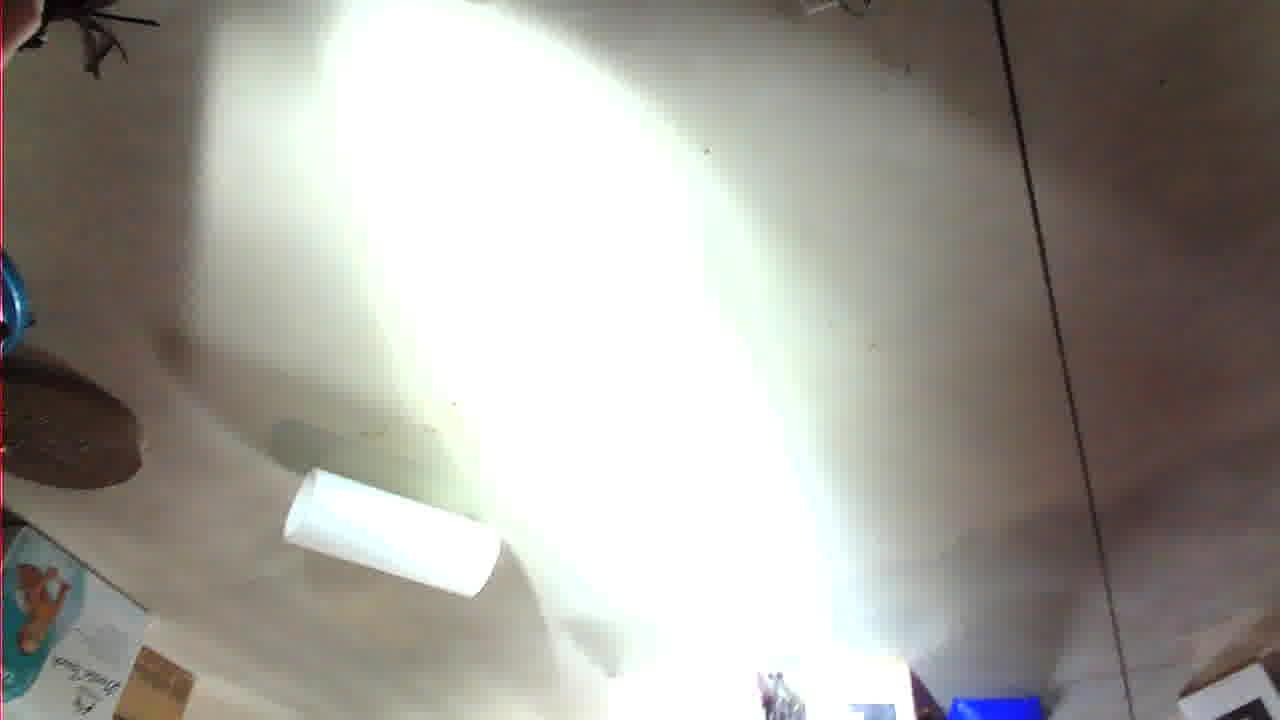coral: (781, 121, 997, 254)
